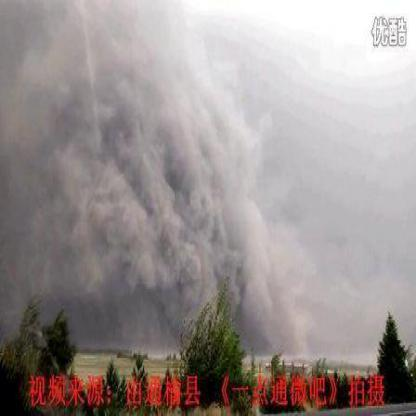smoke: (82, 14, 166, 300), (0, 11, 75, 281), (166, 30, 230, 308), (234, 206, 296, 352)
